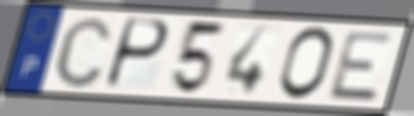4: (223, 24, 269, 98)
5: (170, 18, 227, 97)
C: (51, 14, 115, 91)
E: (325, 30, 397, 104)
O: (276, 24, 337, 103)
P: (101, 16, 173, 92)
